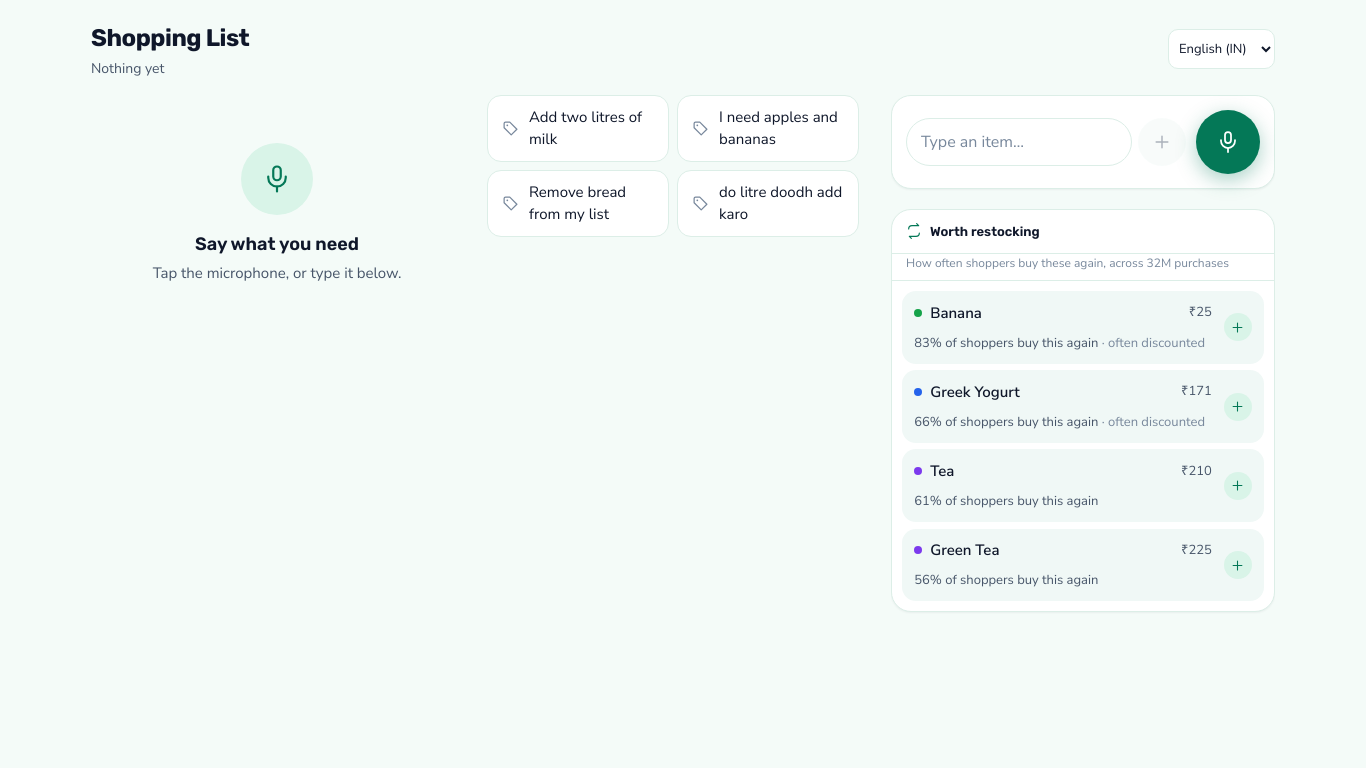
Test case: voice input › adds a spoken item to the list
The width and height of the screenshot is (1366, 768).
Click the button named "Start listening": coordinates (1228, 142) [1196, 110, 1260, 174]
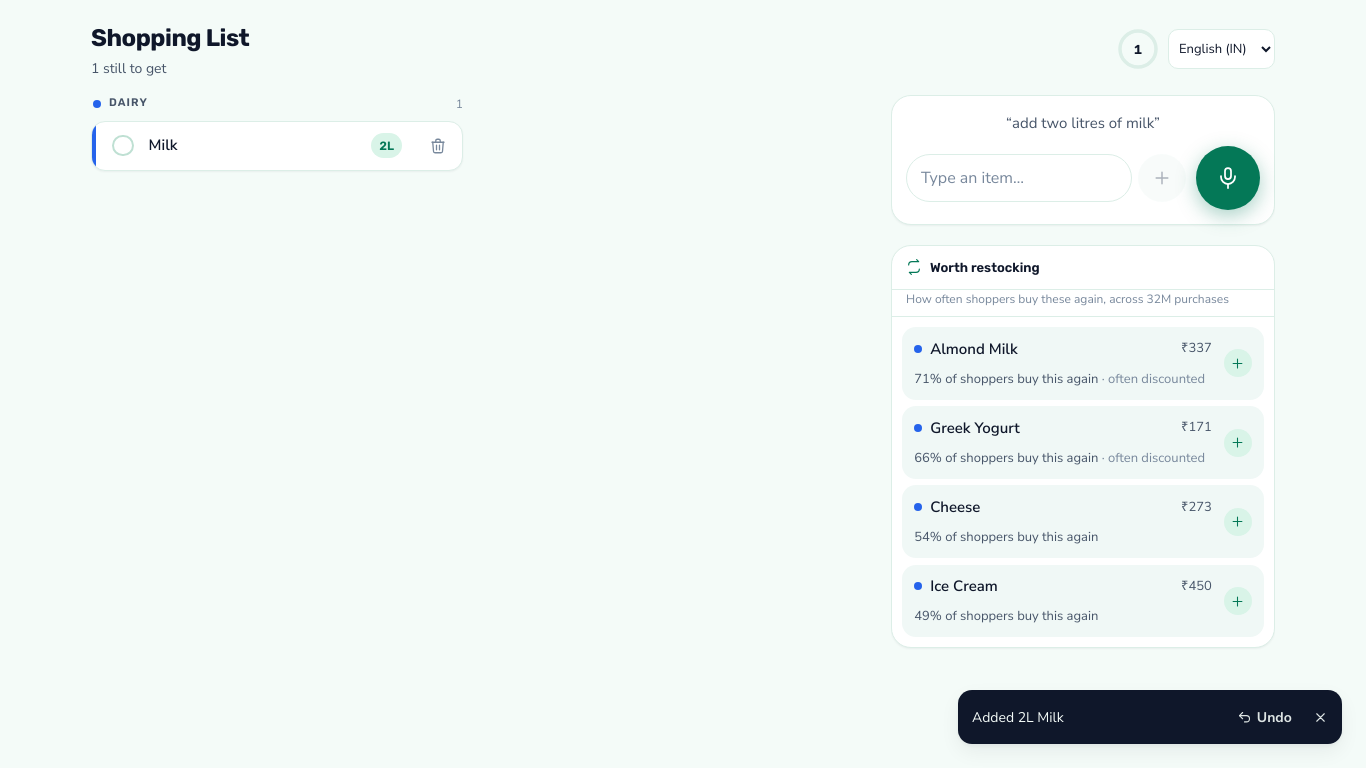
Now the text "Milk" is shown, box [149, 135, 178, 155]
Now the text "2L" is shown, box [371, 133, 402, 158]
